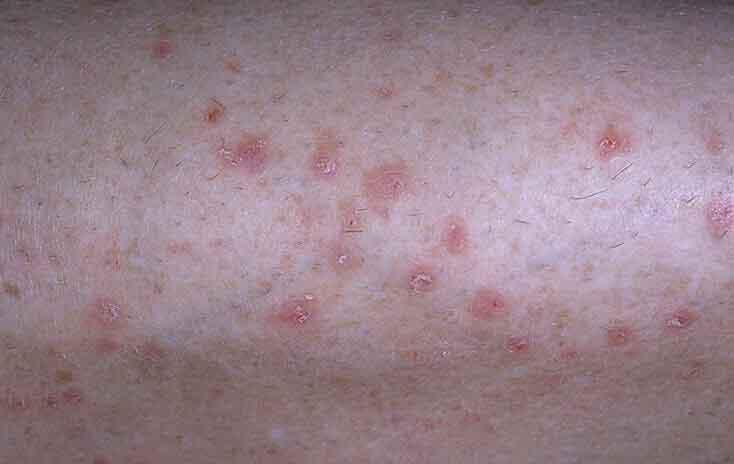Fleas: (458, 281, 522, 344), (86, 290, 138, 349), (365, 164, 410, 212), (307, 143, 351, 192), (690, 115, 733, 164), (657, 305, 705, 343), (273, 290, 322, 327), (230, 135, 276, 173), (439, 216, 481, 255), (703, 192, 733, 239), (405, 265, 443, 302), (596, 124, 631, 162), (149, 37, 178, 74), (331, 248, 363, 280), (196, 96, 228, 128), (338, 208, 368, 238), (504, 336, 535, 365), (554, 340, 583, 363), (607, 329, 642, 348), (55, 384, 83, 407)
